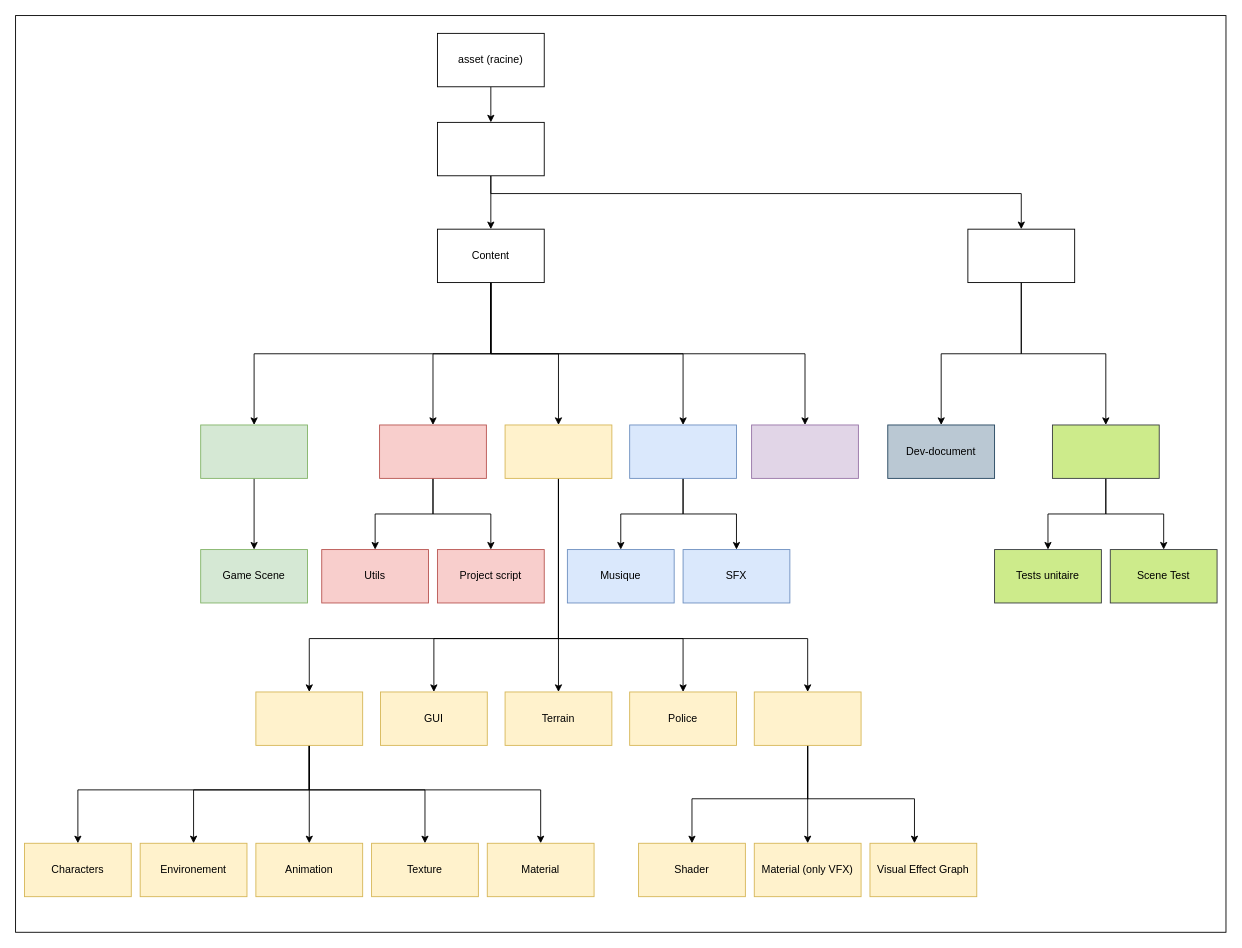
Image size: 1242x948. Some labels were removed from this diagram. Here are the shapes that lost their labels. From the top down, the centre of each, then its label:
the point at 490,148: App
the point at 1021,255: No Compile
the point at 253,451: Scene
the point at 432,451: Scripts
the point at 558,451: Visual
the point at 682,451: Audio
the point at 804,451: Prefab
the point at 1105,451: Tests
the point at 309,718: Model 3d
the point at 807,718: VFX
